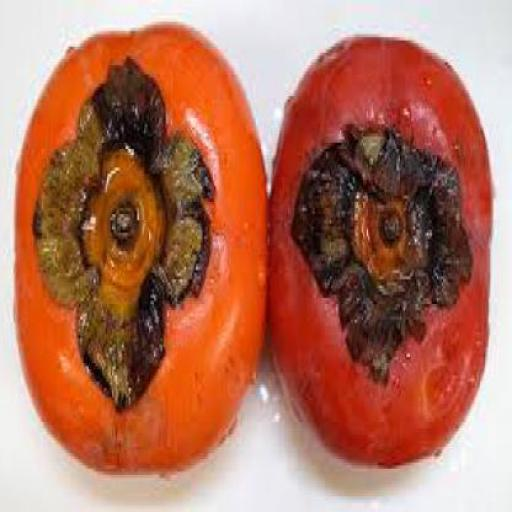biodegradable: (17, 18, 271, 472), (272, 28, 496, 466)
